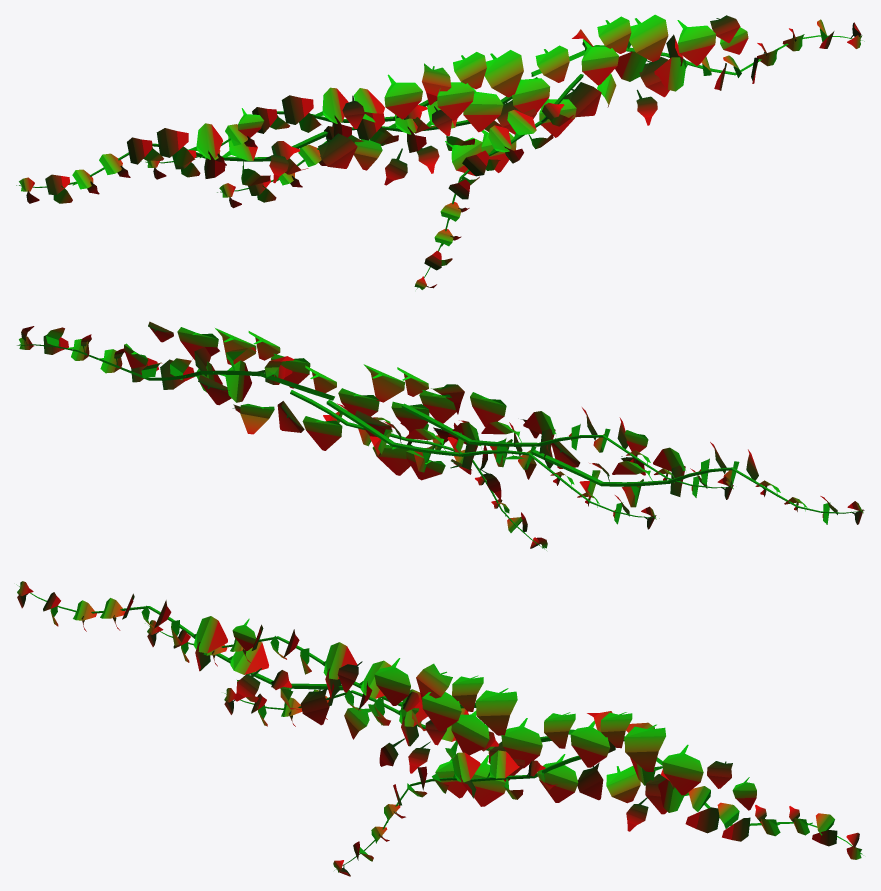
The model's file is Lierre6_LOD0.fbx.
The picture shows the model from 3 angles, top to bottom: view 1: azimuth 30°, elevation 25°; view 2: azimuth 150°, elevation 25°; view 3: azimuth 330°, elevation 25°; orthographic projection. The views are drawn at different scales.
Parts seen in each view (by area): view 1: _9103_Var8_LOD1; view 2: _9103_Var8_LOD1; view 3: _9103_Var8_LOD1.
Part boxes in pixels (bbox=[...]): _9103_Var8_LOD1: bbox=[16, 14, 864, 289]; _9103_Var8_LOD1: bbox=[17, 321, 864, 550]; _9103_Var8_LOD1: bbox=[16, 581, 863, 876].
Bounding box in the file's own units: 118 × 24.69 × 14.05.
